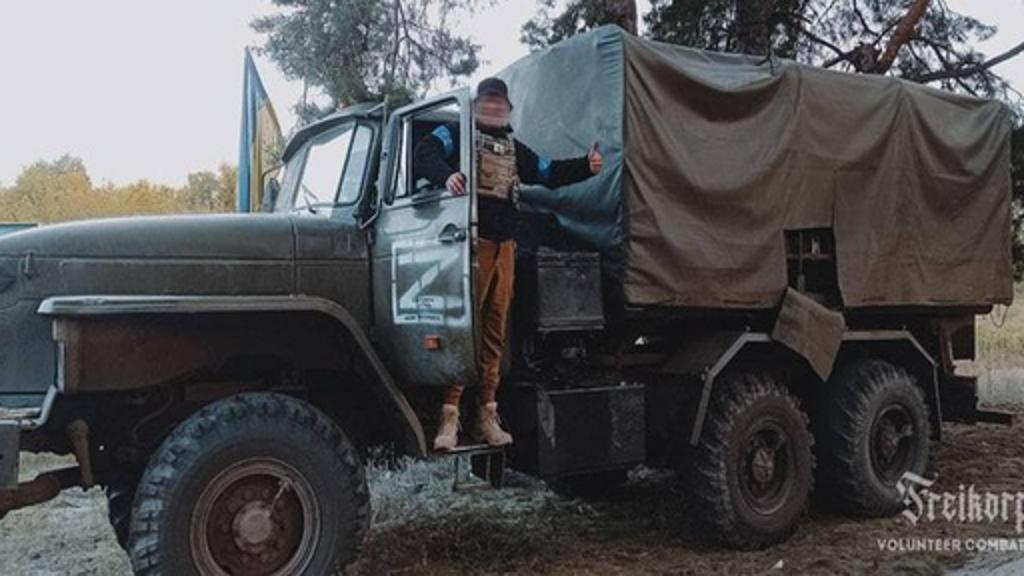TRUCK: (0, 20, 1020, 572)
